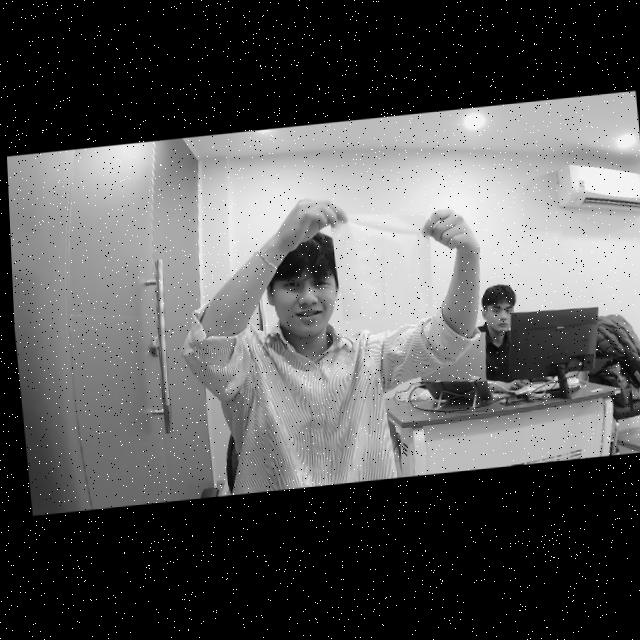face: (264, 240, 342, 348), (472, 287, 517, 341)
